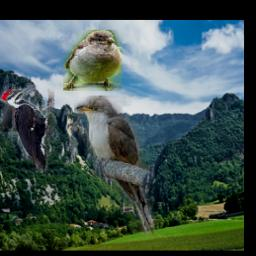Cuckoo: (74, 96, 155, 236)
Sparrow: (64, 30, 123, 91)
Woodpecker: (1, 85, 55, 173)
